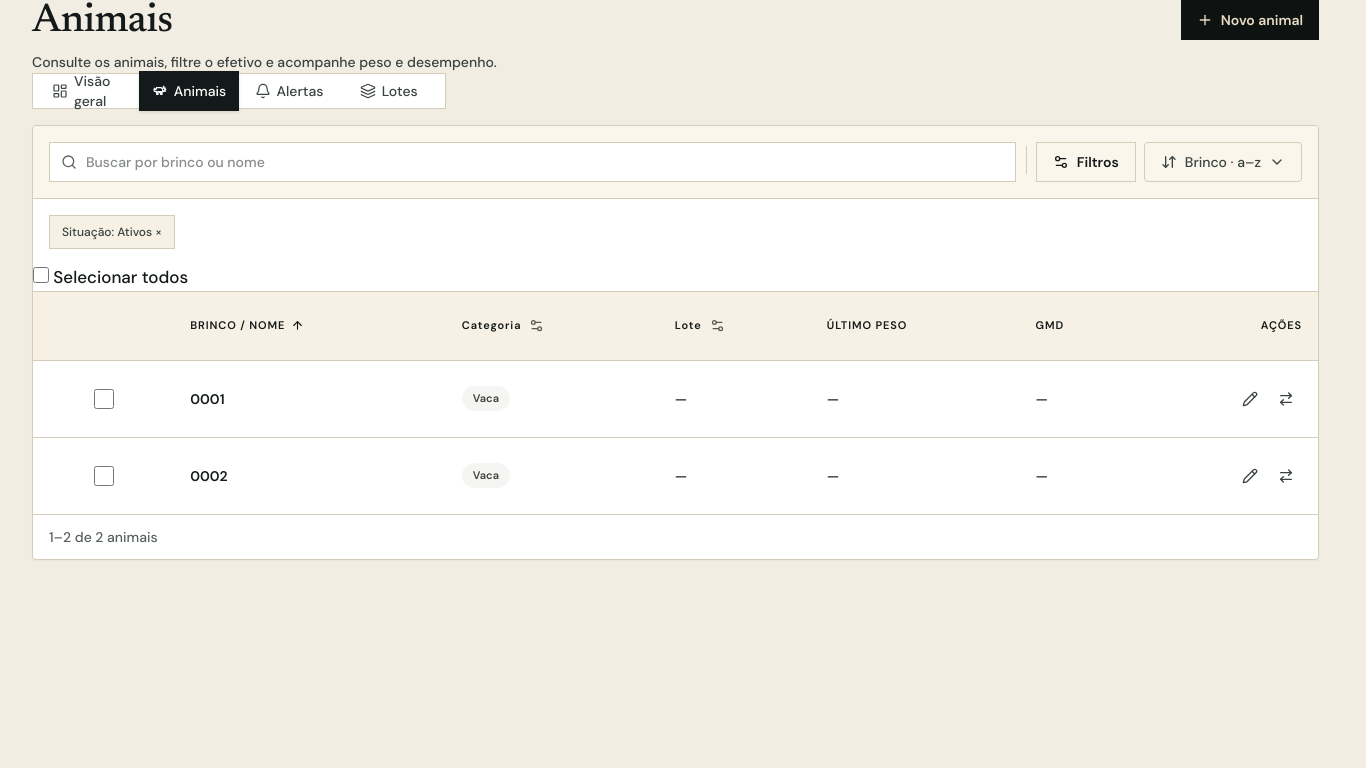
ListaAnimais › editar ignora a resposta de um clique anterior que chega fora de ordem (U3)
This screenshot has width=1366, height=768.
clica em editar 0001 (fica pendente) e depois em 0002 (resolve primeiro)
Click the button named "Editar 0001" at [1250, 398], box x1=1234 y1=382 x2=1266 y2=414
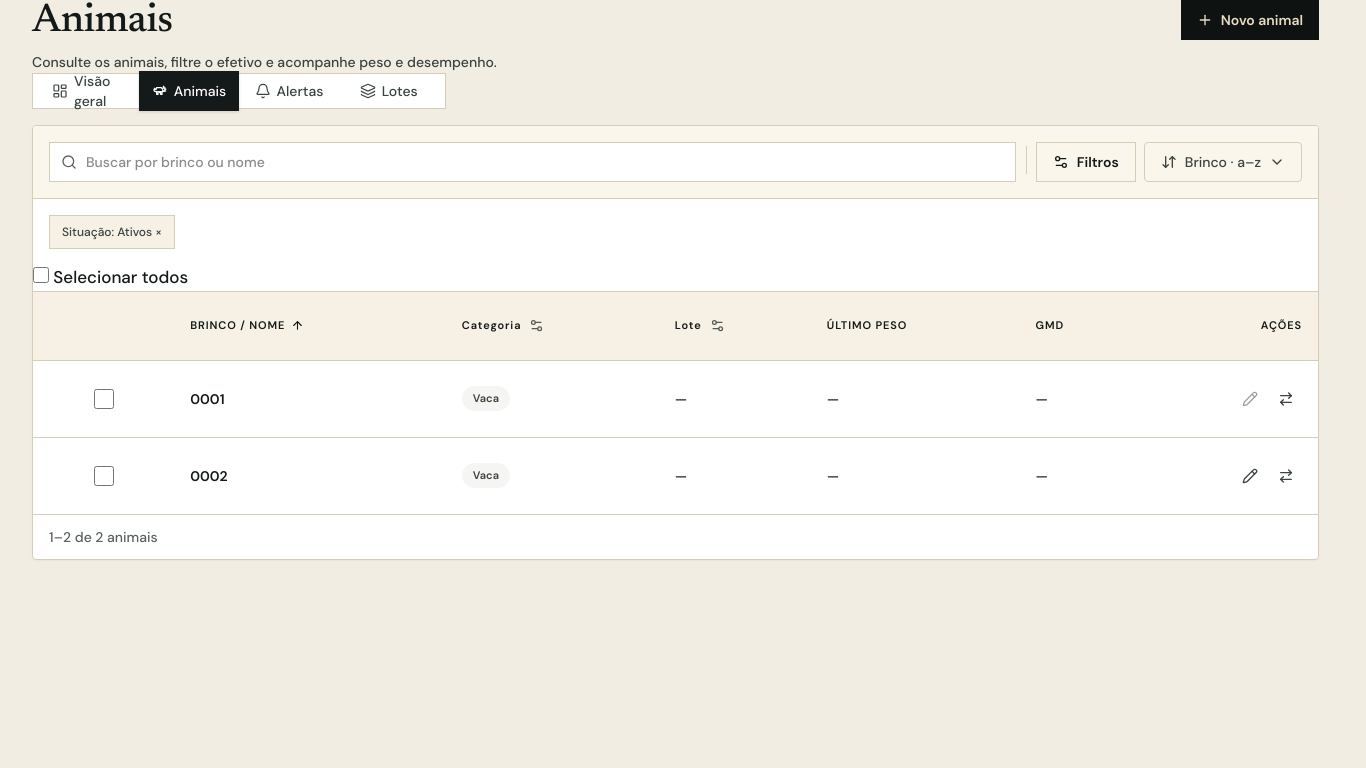
Click the button named "Editar 0002" at [1250, 476], box x1=1234 y1=460 x2=1266 y2=492
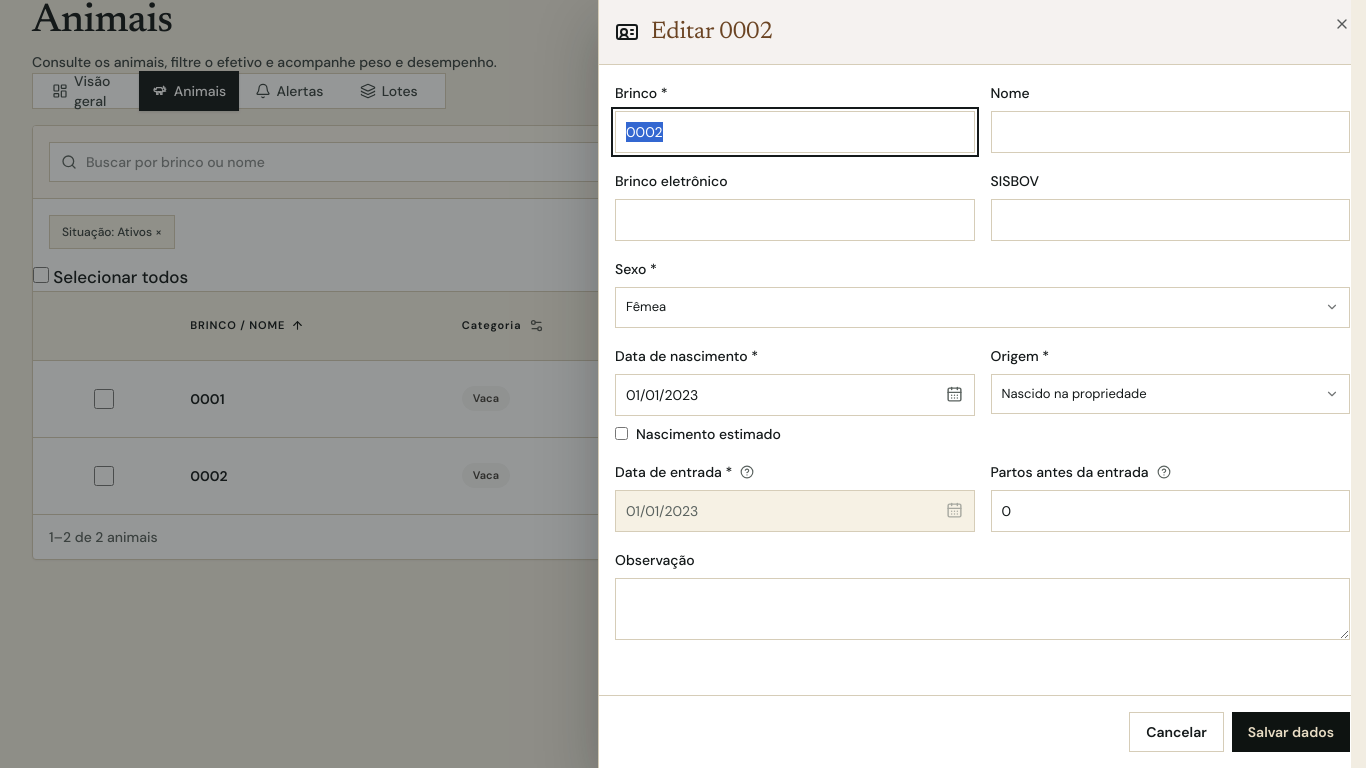
Result: the heading "Editar 0002" is shown at x1=651 y1=16 x2=773 y2=48
